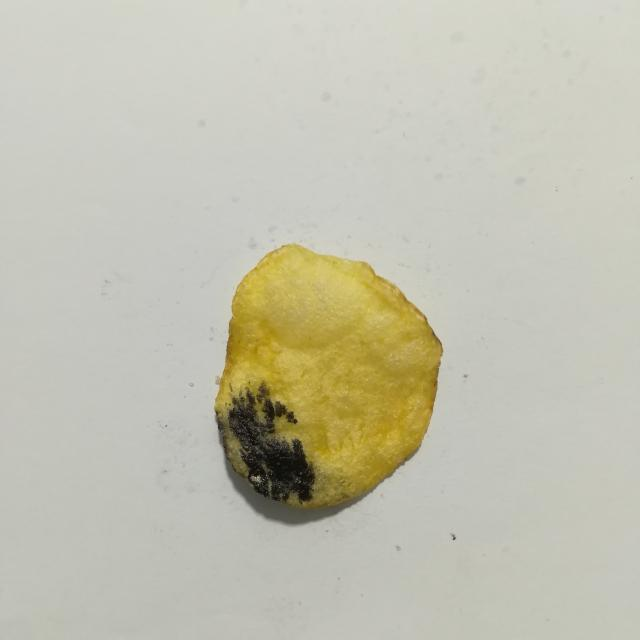chip: (215, 244, 443, 508)
damaged: (227, 382, 315, 504)
semi-damaged: (288, 462, 355, 508), (215, 404, 249, 482)
